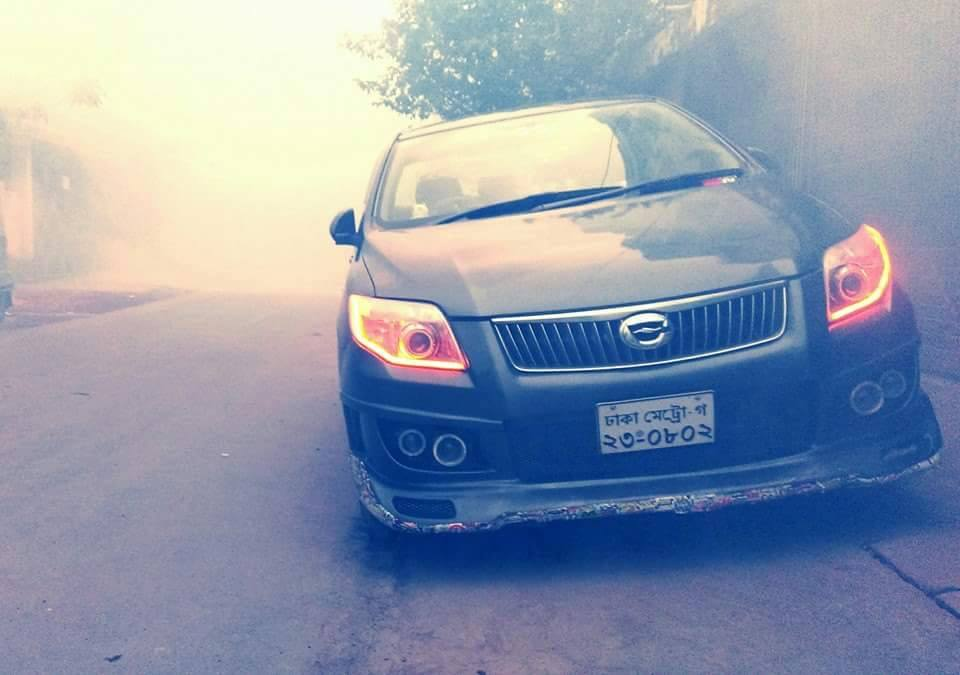registration_plate: (593, 388, 717, 456)
